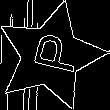P_W: (21, 32, 80, 80)
